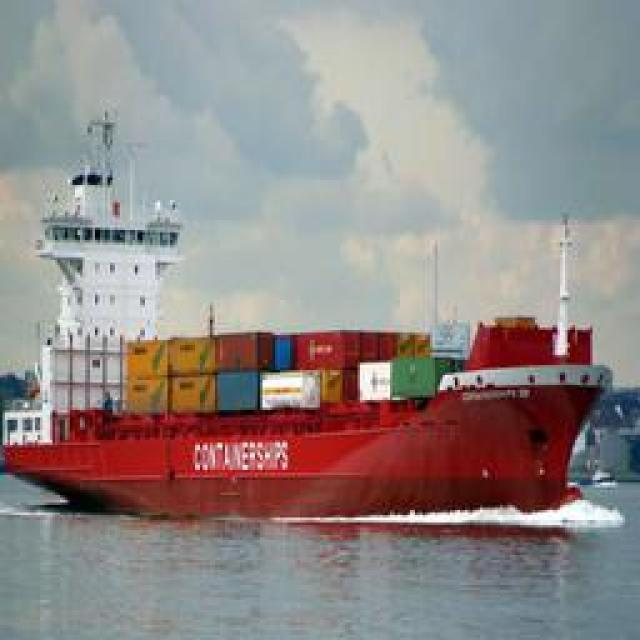ship2: (2, 122, 614, 521)
